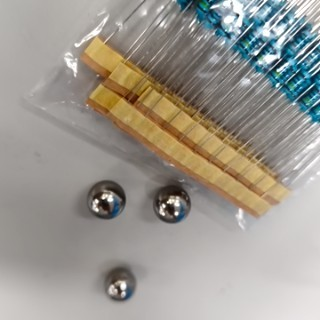ironball: (76, 168, 137, 236), (144, 174, 200, 240), (92, 265, 162, 311)
